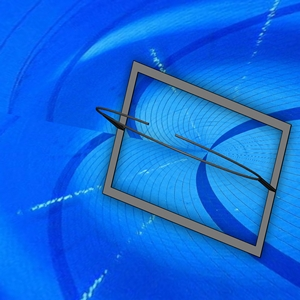circle: (95, 60, 292, 260)
